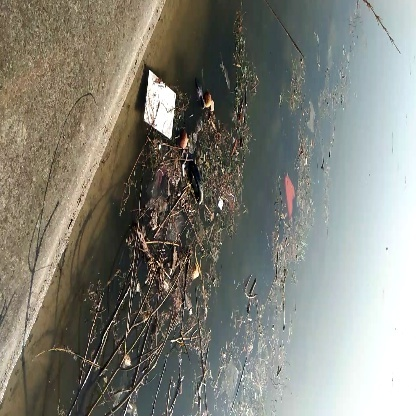plastic-garbage: (141, 62, 177, 139)
